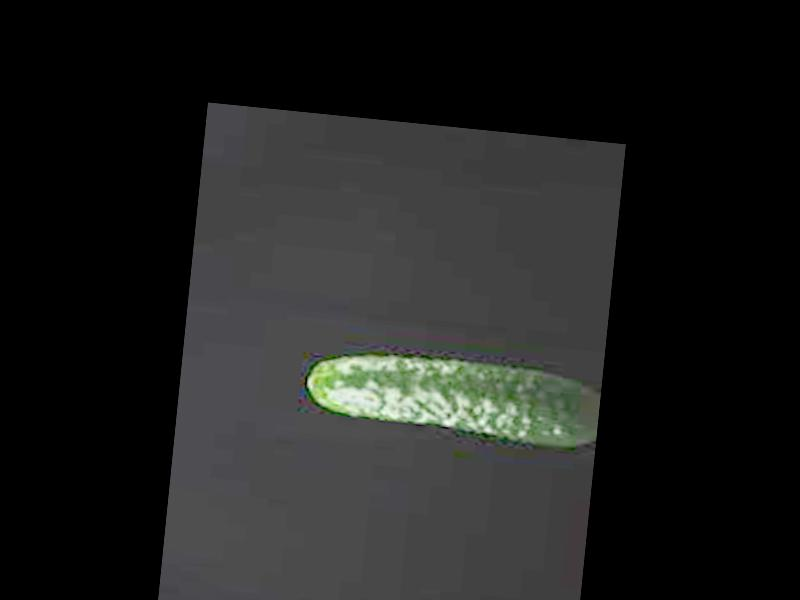Cucumber: (301, 345, 603, 451)
